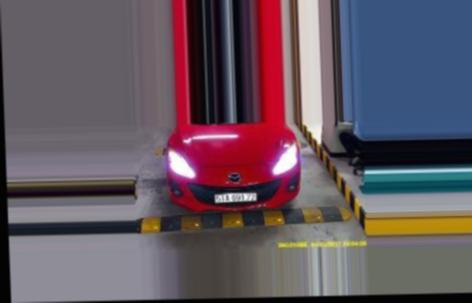License_Plate: (213, 189, 257, 205)
